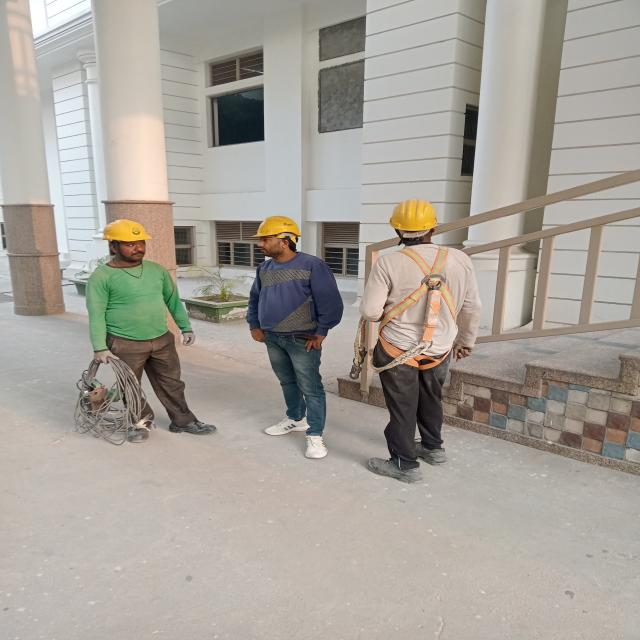no jacket: (76, 217, 220, 446), (374, 195, 469, 480), (243, 210, 337, 463)
